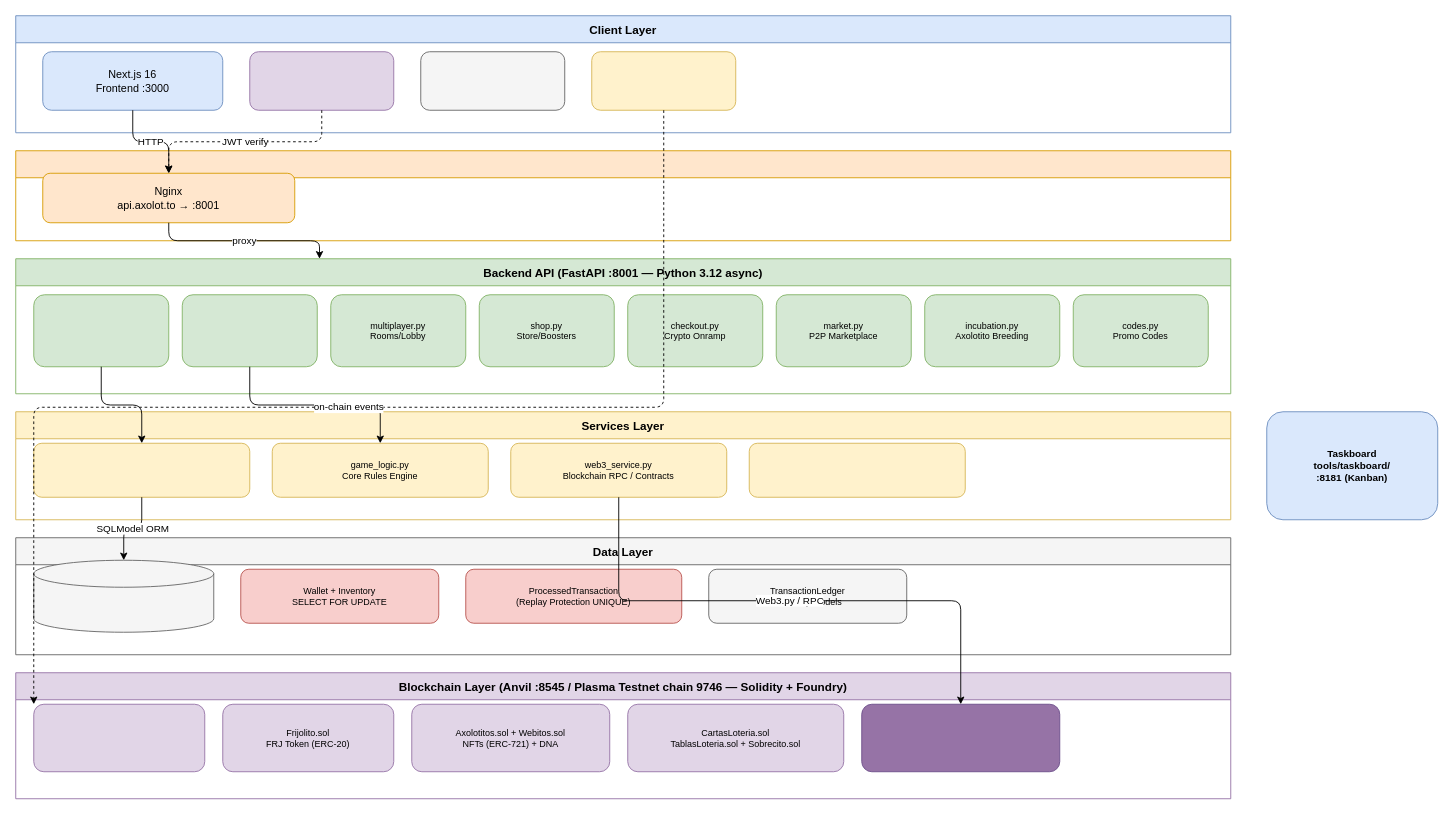
This 1454x815 diagram has some shape labels left out. The shapes that lost their labels are listed below. From the top down, each one's box as (x1, y1, x2, y2) in pixels, then its label:
(249, 51, 394, 110): Privy (JWT Auth)
(420, 51, 565, 110): MoonPay (USDC Onramp)
(591, 51, 736, 110): Viem 2.47 (Web3 Client)
(15, 150, 1231, 241): Proxy / Gateway
(33, 294, 169, 367): bank.py Wallet/Dual-Currency
(181, 294, 317, 367): game.py Lifecycle/Rewards
(33, 442, 250, 497): bank_service.py Wallet / Dual-Currency Logic
(748, 442, 965, 497): vip_scheduler.py VIP Tier Management
(33, 559, 214, 632): PostgreSQL 16 Docker :5433
(33, 703, 205, 772): Axoficha.sol AXF Token (ERC-20)
(861, 703, 1060, 772): GameController.sol Central Orchestrator
